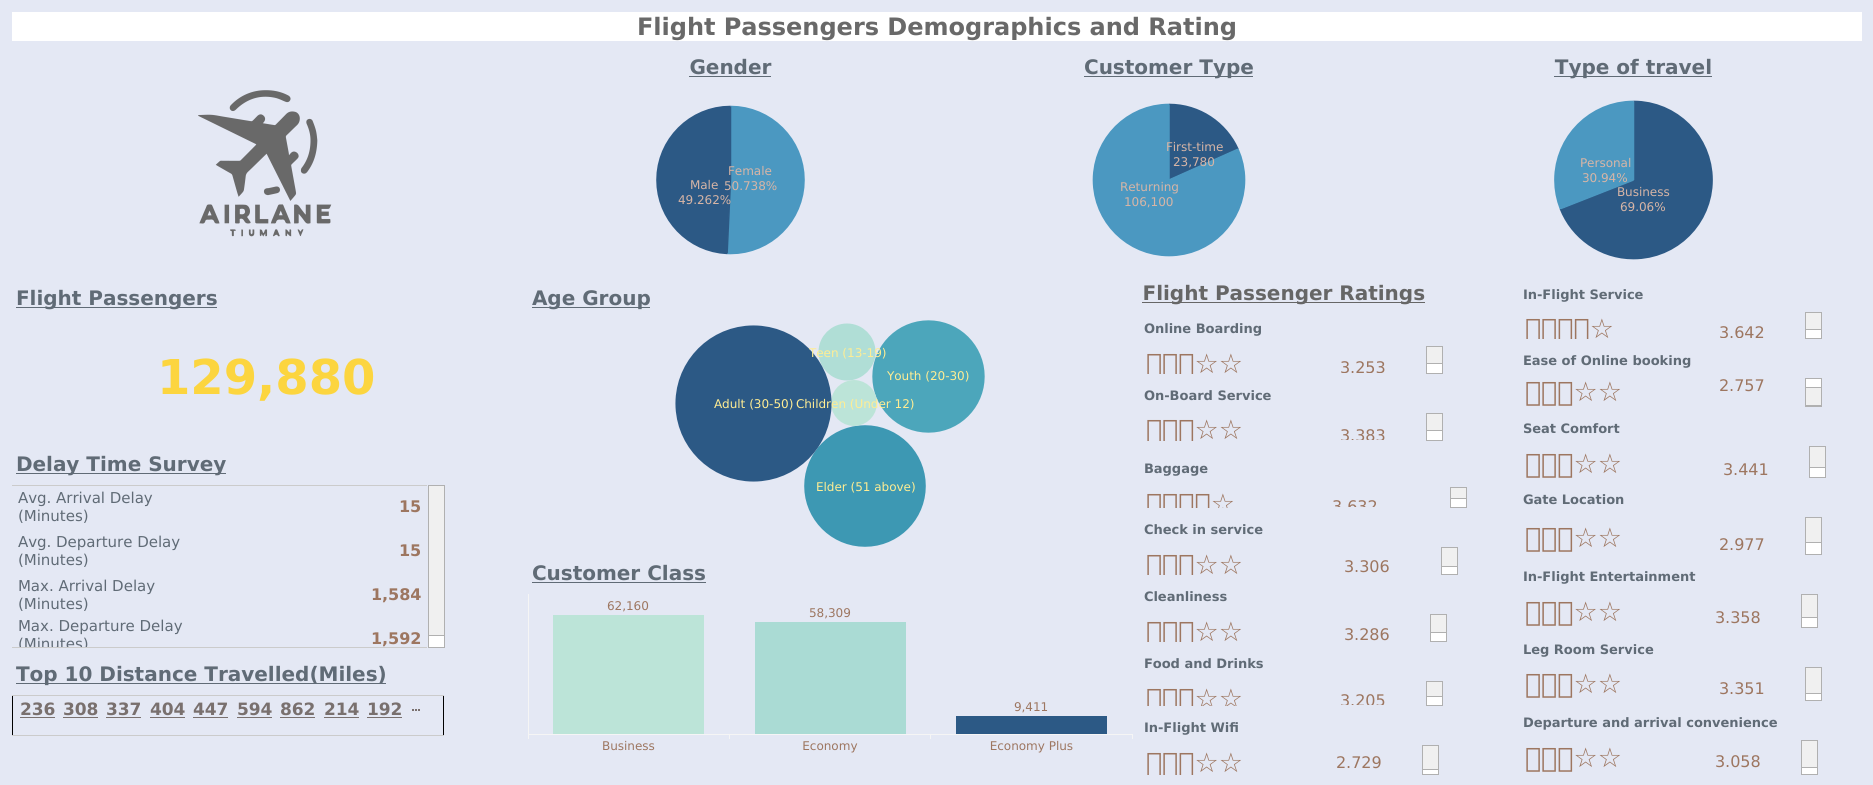

What the dashboard file says about the page in this screenshot:
{"tool":"powerbi","page":{"name":"OVERVIEW","canvas":[1480,860],"ordinal":0},"visuals":[{"type":"shape","box":[183.3,0,1297.2,145.8],"z":0},{"type":"shape","box":[1267.1,152.8,186.6,161.8],"z":0,"group":"g5"},{"type":"shape","box":[232.3,153.5,186.6,161.8],"z":0,"group":"g1"},{"type":"shape","box":[643.4,154.2,186.6,161.8],"z":0,"group":"g3"},{"type":"shape","box":[847.6,154.2,186.6,161.8],"z":0,"group":"g4"},{"type":"shape","box":[1056.4,154.4,186.6,161.8],"z":0,"group":"g6"},{"type":"shape","box":[437.8,155.5,186.6,161.8],"z":0,"group":"g2"},{"type":"shape","box":[1267.1,152.8,203.8,175.2],"z":1000,"group":"g5"},{"type":"group","id":"g1","title":"Group 1","box":[232.3,153.5,203.8,175.2],"z":1000},{"type":"shape","box":[232.3,153.5,203.8,175.2],"z":1000,"group":"g1"},{"type":"shape","box":[643.4,154.2,203.8,175.2],"z":1000,"group":"g3"},{"type":"shape","box":[847.6,154.2,203.8,175.2],"z":1000,"group":"g4"},{"type":"shape","box":[1056.4,154.4,203.8,175.2],"z":1000,"group":"g6"},{"type":"shape","box":[437.8,155.5,203.8,175.2],"z":1000,"group":"g2"},{"type":"group","id":"g2","title":"Group 1","box":[437.8,155.5,203.8,175.2],"z":2000},{"type":"group","id":"g3","title":"Group 1","box":[643.4,154.2,203.8,175.2],"z":3000},{"type":"group","id":"g4","title":"Group 1","box":[847.6,154.2,203.8,175.2],"z":4000},{"type":"group","id":"g5","title":"Group 1","box":[1267.1,152.8,204.2,175],"z":5000},{"type":"group","id":"g6","title":"Group 1","box":[1056.4,154.4,204.2,176.4],"z":6000},{"type":"slicer","fields":{"Values":["Crime-Statistics-Summary-Ministry-of-Police-Affairs FOR 3 YEARS.GEO-POLITICAL ZONES","Crime-Statistics-Summary-Ministry-of-Police-Affairs FOR 3 YEARS.STATE"]},"box":[950,18.1,365.3,111.1],"z":7000},{"type":"shape","box":[0,0,210.3,860.3],"z":8000},{"type":"shape","box":[0,0,210.3,193.6],"z":9000},{"type":"map","title":"TOTAL CASES REPORTED IN NIGERIA","fields":{"Category":["Crime-Statistics-Summary-Ministry-of-Police-Affairs FOR 3 YEARS.STATE"],"Size":["Sum(Crime-Statistics-Summary-Ministry-of-Police-Affairs FOR 3 YEARS.TOTAL CASES REPORTED)"]},"box":[224.8,325.5,522.9,529.9],"z":10000},{"type":"card","fields":{"Values":["Sum(Crime-Statistics-Summary-Ministry-of-Police-Affairs FOR 3 YEARS.TOTAL CASES REPORTED)"]},"box":[29.2,418.1,152.8,118.1],"z":11000},{"type":"card","fields":{"Values":["Sum(Crime-Statistics-Summary-Ministry-of-Police-Affairs FOR 3 YEARS.TOTAL CASES REPORTED)"]},"box":[30.8,556.6,153.3,117.8],"z":12000},{"type":"card","fields":{"Values":["Sum(Crime-Statistics-Summary-Ministry-of-Police-Affairs FOR 3 YEARS.TOTAL CASES REPORTED)"]},"box":[30.6,695.8,154.2,116.7],"z":13000},{"type":"shape","box":[3.4,872.4,210.3,206.9],"z":14000},{"type":"shape","box":[0,193.6,210.3,193.6],"z":15000},{"type":"card","title":"ARMED ROBBERY","fields":{"Values":["Sum(Crime-Statistics-Summary-Ministry-of-Police-Affairs FOR 3 YEARS.ARMED ROBBERYCASES (JAN-DEC))"]},"box":[243.1,170.8,181.9,68.1],"z":16000},{"type":"lineChart","fields":{"Y":["Sum(Crime-Statistics-Summary-Ministry-of-Police-Affairs FOR 3 YEARS.ARMED ROBBERYCASES (JAN-DEC))"],"Category":["Crime-Statistics-Summary-Ministry-of-Police-Affairs FOR 3 YEARS.YEAR"]},"box":[243.1,212.5,181.9,112.5],"z":17000},{"type":"card","title":"ARMED BANDITORY","fields":{"Values":["Sum(Crime-Statistics-Summary-Ministry-of-Police-Affairs FOR 3 YEARS.ARMEDBANDITRY OCCCURRENCE (JAN-DEC))"]},"box":[448.6,170.8,181.9,68.1],"z":18000},{"type":"card","title":"KIDNAPPING","fields":{"Values":["Sum(Crime-Statistics-Summary-Ministry-of-Police-Affairs FOR 3 YEARS.KIDNAPPINGCASES (JAN-DEC))"]},"box":[656.9,170.8,181.9,68.1],"z":19000},{"type":"card","title":"MURDER","fields":{"Values":["Sum(Crime-Statistics-Summary-Ministry-of-Police-Affairs FOR 3 YEARS.MURDERCASES (JAN-DEC))"]},"box":[861.1,172.2,181.9,68.1],"z":20000},{"type":"card","title":"TERRORISM","fields":{"Values":["Sum(Crime-Statistics-Summary-Ministry-of-Police-Affairs FOR 3 YEARS.TERRORRISM/SECESSIONISTSATTACK (JAN-DEC))"]},"box":[1068.1,173.6,183.3,68.1],"z":21000},{"type":"card","title":"OTHERS","fields":{"Values":["Sum(Crime-Statistics-Summary-Ministry-of-Police-Affairs FOR 3 YEARS.OTHERS (JAN-DEC))"]},"box":[1277.8,172.2,183.3,68.1],"z":22000},{"type":"lineChart","fields":{"Y":["Sum(Crime-Statistics-Summary-Ministry-of-Police-Affairs FOR 3 YEARS.ARMEDBANDITRY OCCCURRENCE (JAN-DEC))"],"Category":["Crime-Statistics-Summary-Ministry-of-Police-Affairs FOR 3 YEARS.YEAR"]},"box":[448.6,211.1,172.2,112.5],"z":23000},{"type":"lineChart","fields":{"Y":["Sum(Crime-Statistics-Summary-Ministry-of-Police-Affairs FOR 3 YEARS.KIDNAPPINGCASES (JAN-DEC))"],"Category":["Crime-Statistics-Summary-Ministry-of-Police-Affairs FOR 3 YEARS.YEAR"]},"box":[652.8,209.7,180.6,112.5],"z":24000},{"type":"lineChart","fields":{"Y":["Sum(Crime-Statistics-Summary-Ministry-of-Police-Affairs FOR 3 YEARS.MURDERCASES (JAN-DEC))"],"Category":["Crime-Statistics-Summary-Ministry-of-Police-Affairs FOR 3 YEARS.YEAR"]},"box":[861.1,209.7,177.8,112.5],"z":25000},{"type":"lineChart","fields":{"Y":["Sum(Crime-Statistics-Summary-Ministry-of-Police-Affairs FOR 3 YEARS.TERRORRISM/SECESSIONISTSATTACK (JAN-DEC))"],"Category":["Crime-Statistics-Summary-Ministry-of-Police-Affairs FOR 3 YEARS.YEAR"]},"box":[1065.3,209.7,187.5,112.5],"z":26000},{"type":"lineChart","fields":{"Y":["Sum(Crime-Statistics-Summary-Ministry-of-Police-Affairs FOR 3 YEARS.OTHERS (JAN-DEC))"],"Category":["Crime-Statistics-Summary-Ministry-of-Police-Affairs FOR 3 YEARS.YEAR"]},"box":[1276.4,209.7,181.9,112.5],"z":27000},{"type":"image","box":[176.4,0,540.3,109.7],"z":28000},{"type":"textbox","box":[351.4,97.2,465.3,48.6],"z":29000},{"type":"image","box":[2.8,13.9,198.6,166.7],"z":30000},{"type":"card","fields":{"Values":["Sum(Crime-Statistics-Summary-Ministry-of-Police-Affairs FOR 3 YEARS.TOTAL CASES REPORTED)"]},"box":[5.6,200,198.6,179.2],"z":31000},{"type":"clusteredColumnChart","title":"CASES REPORTED IN DIFFERENT STATES","fields":{"Category":["Crime-Statistics-Summary-Ministry-of-Police-Affairs FOR 3 YEARS.STATE"],"Y":["Sum(Crime-Statistics-Summary-Ministry-of-Police-Affairs FOR 3 YEARS.TOTAL CASES REPORTED)"]},"box":[752.8,326.4,725,530.6],"z":32000}]}

Visuals, with their boxes on the page's 1480x860 design canvas (x1, y1, x2, y2). These are canvas units, not pixel positions in the 1873x785 screenshot, which may show the page scaled, cropped or inside an application window:
shape: (183,0,1480,146)
shape: (1267,153,1454,315)
shape: (232,154,419,315)
shape: (643,154,830,316)
shape: (848,154,1034,316)
shape: (1056,154,1243,316)
shape: (438,156,624,317)
shape: (1267,153,1471,328)
"Group 1" group: (232,154,436,329)
shape: (232,154,436,329)
shape: (643,154,847,329)
shape: (848,154,1051,329)
shape: (1056,154,1260,330)
shape: (438,156,642,331)
"Group 1" group: (438,156,642,331)
"Group 1" group: (643,154,847,329)
"Group 1" group: (848,154,1051,329)
"Group 1" group: (1267,153,1471,328)
"Group 1" group: (1056,154,1261,331)
slicer - Crime-Statistics-Summary-Ministry-of-Police-Affairs FOR 3 YEARS.GEO-POLITICAL ZONES x Crime-Statistics-Summary-Ministry-of-Police-Affairs FOR 3 YEARS.STATE: (950,18,1315,129)
shape: (0,0,210,860)
shape: (0,0,210,194)
"TOTAL CASES REPORTED IN NIGERIA" map: (225,326,748,855)
card - Sum(Crime-Statistics-Summary-Ministry-of-Police-Affairs FOR 3 YEARS.TOTAL CASES REPORTED): (29,418,182,536)
card - Sum(Crime-Statistics-Summary-Ministry-of-Police-Affairs FOR 3 YEARS.TOTAL CASES REPORTED): (31,557,184,674)
card - Sum(Crime-Statistics-Summary-Ministry-of-Police-Affairs FOR 3 YEARS.TOTAL CASES REPORTED): (31,696,185,812)
shape: (3,872,214,1079)
shape: (0,194,210,387)
"ARMED ROBBERY" card: (243,171,425,239)
lineChart - Sum(Crime-Statistics-Summary-Ministry-of-Police-Affairs FOR 3 YEARS.ARMED ROBBERYCASES (JAN-DEC)) x Crime-Statistics-Summary-Ministry-of-Police-Affairs FOR 3 YEARS.YEAR: (243,212,425,325)
"ARMED BANDITORY" card: (449,171,630,239)
"KIDNAPPING" card: (657,171,839,239)
"MURDER" card: (861,172,1043,240)
"TERRORISM" card: (1068,174,1251,242)
"OTHERS" card: (1278,172,1461,240)
lineChart - Sum(Crime-Statistics-Summary-Ministry-of-Police-Affairs FOR 3 YEARS.ARMEDBANDITRY OCCCURRENCE (JAN-DEC)) x Crime-Statistics-Summary-Ministry-of-Police-Affairs FOR 3 YEARS.YEAR: (449,211,621,324)
lineChart - Sum(Crime-Statistics-Summary-Ministry-of-Police-Affairs FOR 3 YEARS.KIDNAPPINGCASES (JAN-DEC)) x Crime-Statistics-Summary-Ministry-of-Police-Affairs FOR 3 YEARS.YEAR: (653,210,833,322)
lineChart - Sum(Crime-Statistics-Summary-Ministry-of-Police-Affairs FOR 3 YEARS.MURDERCASES (JAN-DEC)) x Crime-Statistics-Summary-Ministry-of-Police-Affairs FOR 3 YEARS.YEAR: (861,210,1039,322)
lineChart - Sum(Crime-Statistics-Summary-Ministry-of-Police-Affairs FOR 3 YEARS.TERRORRISM/SECESSIONISTSATTACK (JAN-DEC)) x Crime-Statistics-Summary-Ministry-of-Police-Affairs FOR 3 YEARS.YEAR: (1065,210,1253,322)
lineChart - Sum(Crime-Statistics-Summary-Ministry-of-Police-Affairs FOR 3 YEARS.OTHERS (JAN-DEC)) x Crime-Statistics-Summary-Ministry-of-Police-Affairs FOR 3 YEARS.YEAR: (1276,210,1458,322)
image: (176,0,717,110)
textbox: (351,97,817,146)
image: (3,14,201,181)
card - Sum(Crime-Statistics-Summary-Ministry-of-Police-Affairs FOR 3 YEARS.TOTAL CASES REPORTED): (6,200,204,379)
"CASES REPORTED IN DIFFERENT STATES" clusteredColumnChart: (753,326,1478,857)
